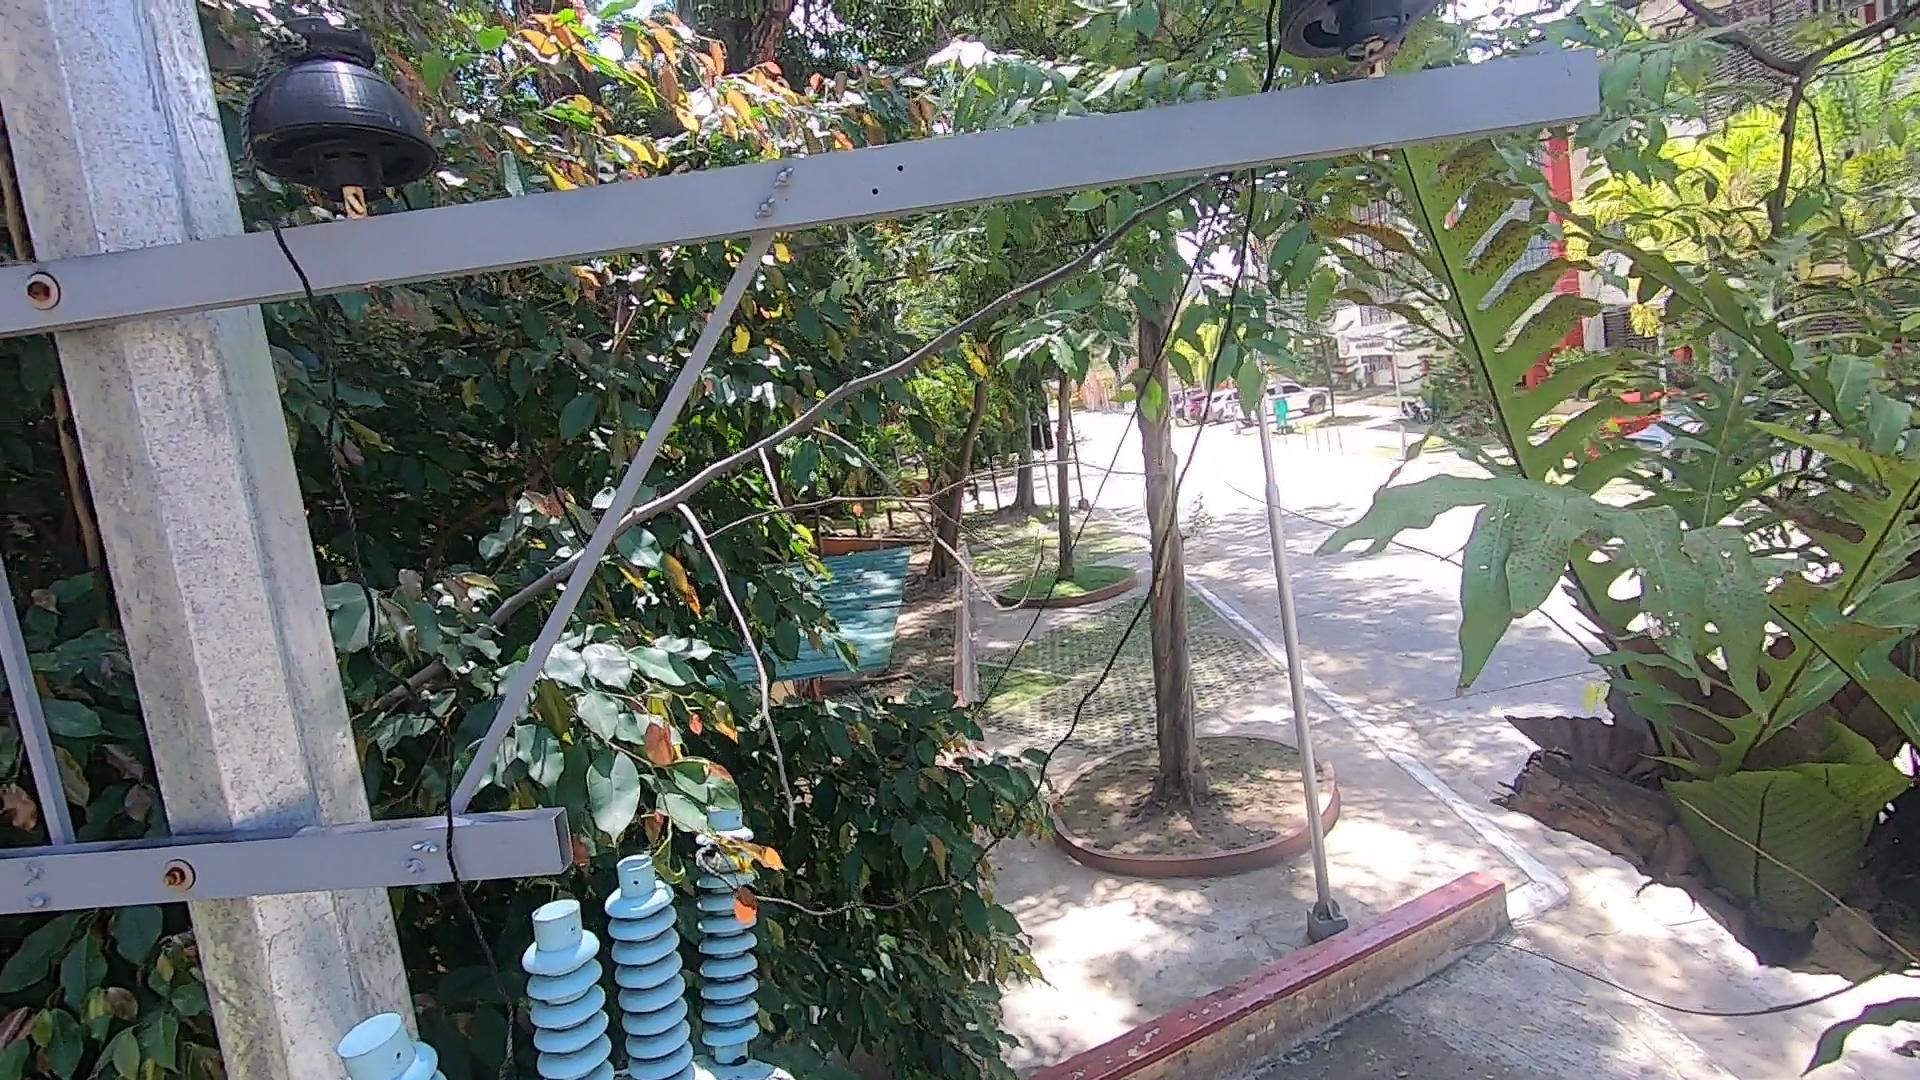tree branch: (340, 1, 1485, 844)
